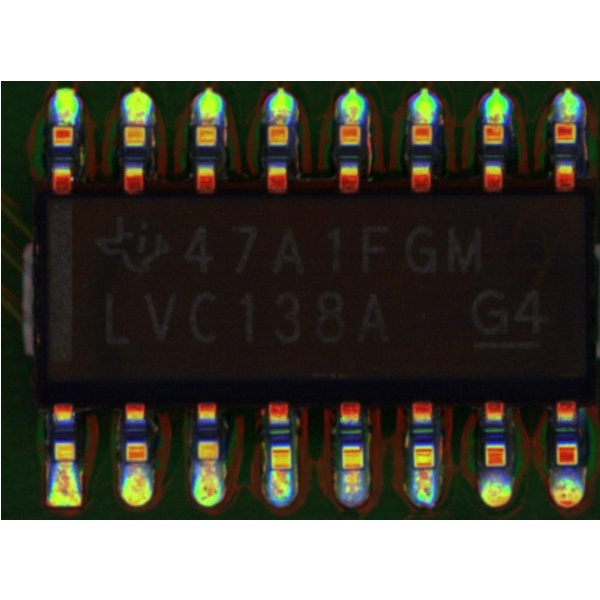Bad_podu: (415, 455, 430, 484), (343, 454, 358, 483), (272, 454, 286, 484), (198, 452, 215, 474)
